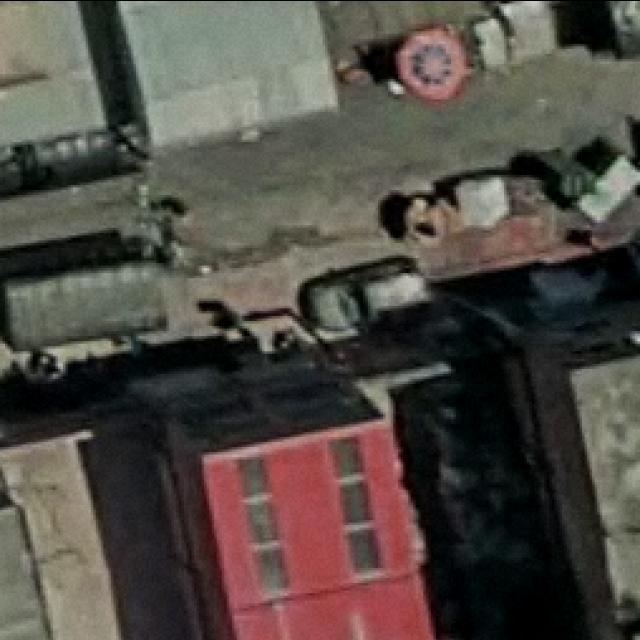vendedor_ambulante: (389, 23, 472, 107)
